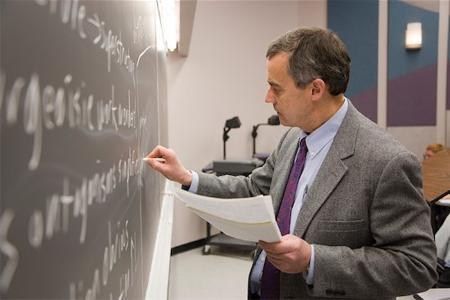person: (146, 28, 439, 300)
